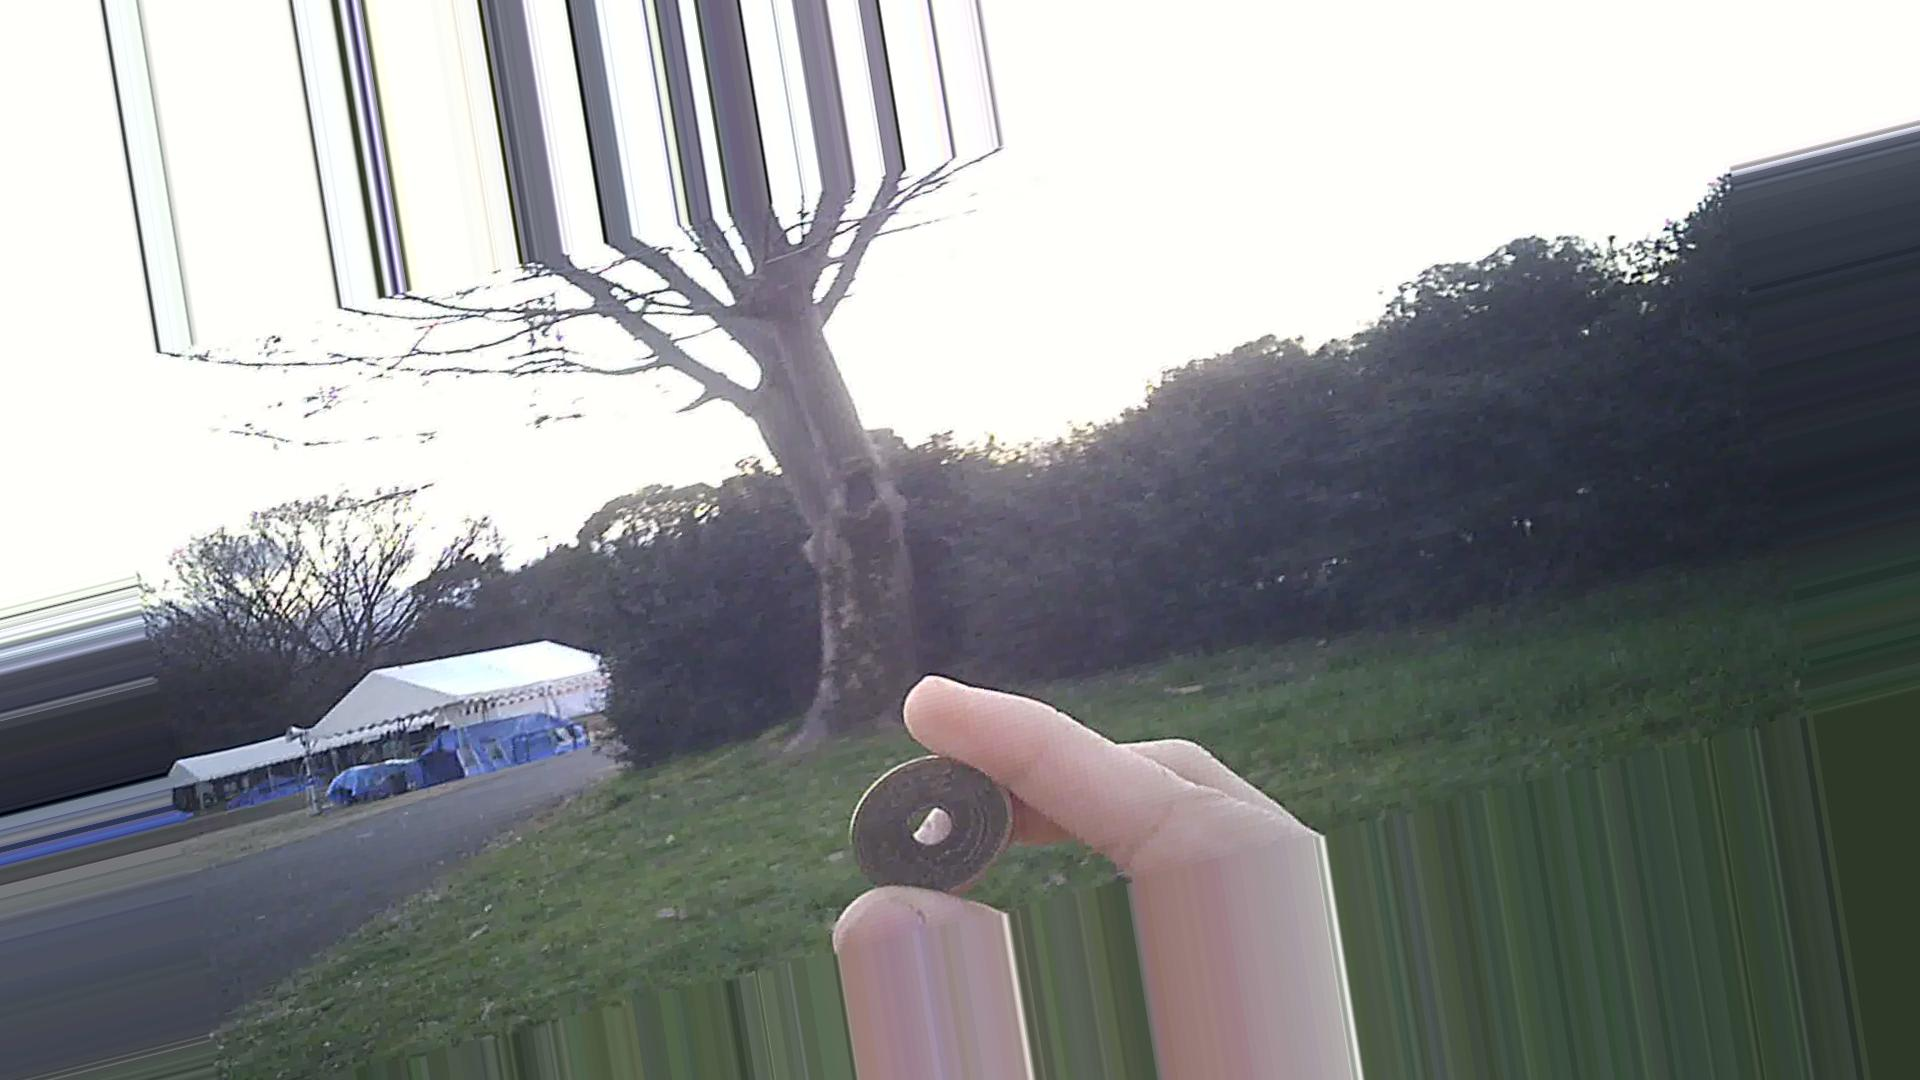5 Yen: (837, 746, 1009, 901)
